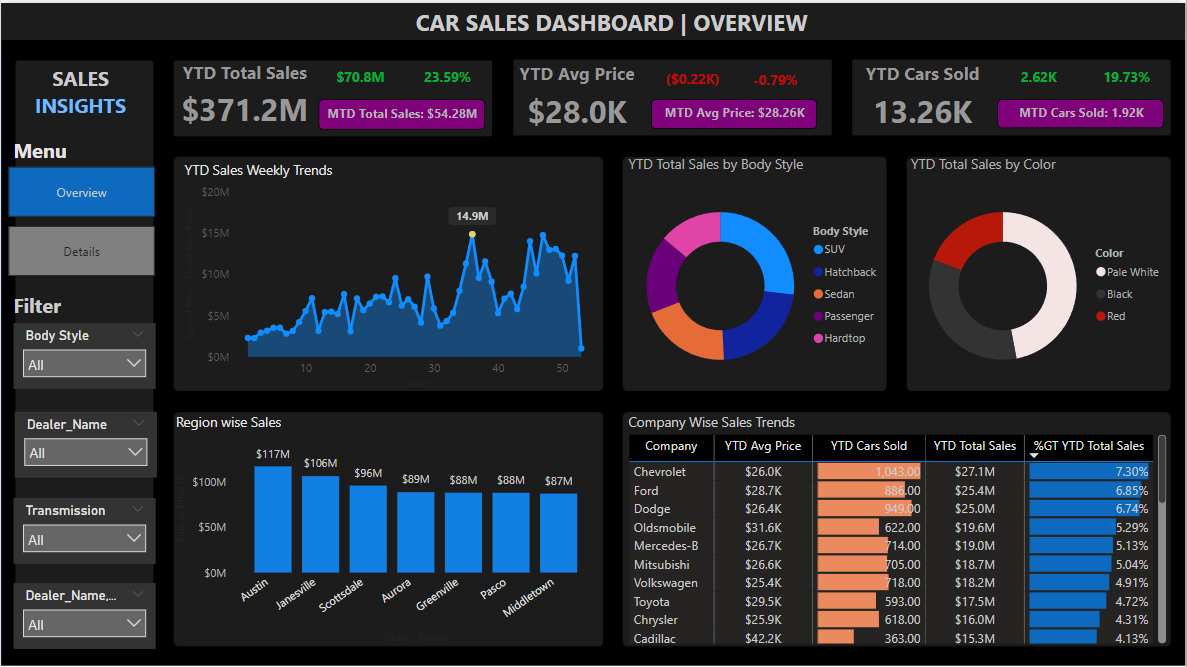

The dashboard page shown, as its layout file describes it:
{"tool":"powerbi","page":{"name":"Overview","canvas":[1280,720],"ordinal":0},"visuals":[{"type":"card","title":"YTD Total Sales","fields":{"Values":["car_data.YTD Total Sales"]},"box":[183.4,62.7,159.3,82],"z":0},{"type":"card","fields":{"Values":["car_data.Sales Difference"]},"box":[342.6,62.7,90.5,41],"z":1000},{"type":"card","fields":{"Values":["car_data.YOY Sales Growth"]},"box":[433.1,62.7,97.7,41],"z":2000},{"type":"card","fields":{"Values":["car_data.MTD KPE"]},"box":[342.6,103.8,179.8,32.6],"z":3000},{"type":"card","title":"YTD Avg Price","fields":{"Values":["car_data.YTD Avg Price"]},"box":[543,63,159,82],"z":4000},{"type":"card","fields":{"Values":["car_data.Avg Price Diff"]},"box":[702,63,90,41],"z":5000},{"type":"card","fields":{"Values":["car_data.YOY Avg Price Growth"]},"box":[792,63,90,43],"z":6000},{"type":"card","fields":{"Values":["car_data.MTD Avg Price KPI"]},"box":[702,104,179,32],"z":7000},{"type":"card","title":"YTD Cars Sold","fields":{"Values":["car_data.YTD Cars Sold"]},"box":[916.2,63.8,160,82.5],"z":8000},{"type":"card","fields":{"Values":["car_data.Cars Sold Diff"]},"box":[1076.2,62.5,90,41.2],"z":9000},{"type":"card","fields":{"Values":["car_data.YOY Cars Sold Growth"]},"box":[1166.2,62.5,98.8,41.2],"z":10000},{"type":"donutChart","fields":{"Category":["car_data.Body Style"],"Y":["car_data.YTD Total Sales"]},"box":[672.5,163.8,287.5,265],"z":11000},{"type":"donutChart","fields":{"Y":["car_data.YTD Total Sales"],"Category":["car_data.Color"]},"box":[977.5,163.8,287.5,265],"z":12000},{"type":"tableEx","title":"Company Wise Sales Trends","fields":{"Values":["car_data.Company","car_data.YTD Avg Price","car_data.YTD Cars Sold","car_data.YTD Total Sales1","car_data.YTD Total Sales"]},"box":[672.9,441.4,591.4,255.7],"z":13000},{"type":"card","fields":{"Values":["car_data.MTD Cars Sold KPI"]},"box":[1075.7,104.3,180,31.4],"z":14000},{"type":"textbox","box":[442.8,0,472.9,55.5],"z":15000},{"type":"slicer","fields":{"Values":["car_data.Body Style"]},"box":[13.3,346.2,153.2,71.2],"z":16000},{"type":"slicer","fields":{"Values":["car_data.Transmission"]},"box":[13.3,534.5,153.2,71.2],"z":17000},{"type":"slicer","fields":{"Values":["car_data.Engine"]},"box":[13.3,626.1,153.2,71.2],"z":18000},{"type":"slicer","fields":{"Values":["car_data.Dealer_Name"]},"box":[14.5,441.6,153.2,71.2],"z":19000},{"type":"textbox","box":[8.4,306.4,153.2,39.8],"z":20000},{"type":"textbox","box":[8.4,138.7,143.6,38.6],"z":21000},{"type":"textbox","box":[13.3,62.7,144.8,67.6],"z":22000},{"type":"areaChart","title":"YTD Sales Weekly Trends","fields":{"Category":["Calendar Table.Week"],"Y":["Sum(car_data.Price ($))","car_data.Max Point"]},"box":[193,170.1,456,252.1],"z":23000},{"type":"pageNavigator","box":[8.4,177.3,158,119.4],"z":24000},{"type":"columnChart","title":"Region wise Sales","fields":{"Y":["Sum(car_data.Price ($))"],"Category":["car_data.Dealer_Region"]},"box":[183.4,441.6,465.7,255.8],"z":25000}]}

Visuals, with their boxes in screenshot pixels (x1, y1, x2, y2), scaled from the page's 1280x720 canvas onto the 1187x667 screenshot:
"YTD Total Sales" card: x1=170, y1=58, x2=318, y2=134
card - car_data.Sales Difference: x1=318, y1=58, x2=402, y2=96
card - car_data.YOY Sales Growth: x1=402, y1=58, x2=492, y2=96
card - car_data.MTD KPE: x1=318, y1=96, x2=484, y2=126
"YTD Avg Price" card: x1=504, y1=58, x2=651, y2=134
card - car_data.Avg Price Diff: x1=651, y1=58, x2=734, y2=96
card - car_data.YOY Avg Price Growth: x1=734, y1=58, x2=818, y2=98
card - car_data.MTD Avg Price KPI: x1=651, y1=96, x2=817, y2=126
"YTD Cars Sold" card: x1=850, y1=59, x2=998, y2=136
card - car_data.Cars Sold Diff: x1=998, y1=58, x2=1081, y2=96
card - car_data.YOY Cars Sold Growth: x1=1081, y1=58, x2=1173, y2=96
donutChart - car_data.Body Style x car_data.YTD Total Sales: x1=624, y1=152, x2=890, y2=397
donutChart - car_data.YTD Total Sales x car_data.Color: x1=906, y1=152, x2=1173, y2=397
"Company Wise Sales Trends" tableEx: x1=624, y1=409, x2=1172, y2=646
card - car_data.MTD Cars Sold KPI: x1=998, y1=97, x2=1164, y2=126
textbox: x1=411, y1=0, x2=849, y2=51
slicer - car_data.Body Style: x1=12, y1=321, x2=154, y2=387
slicer - car_data.Transmission: x1=12, y1=495, x2=154, y2=561
slicer - car_data.Engine: x1=12, y1=580, x2=154, y2=646
slicer - car_data.Dealer_Name: x1=13, y1=409, x2=156, y2=475
textbox: x1=8, y1=284, x2=150, y2=321
textbox: x1=8, y1=128, x2=141, y2=164
textbox: x1=12, y1=58, x2=147, y2=121
"YTD Sales Weekly Trends" areaChart: x1=179, y1=158, x2=602, y2=391
pageNavigator: x1=8, y1=164, x2=154, y2=275
"Region wise Sales" columnChart: x1=170, y1=409, x2=602, y2=646
